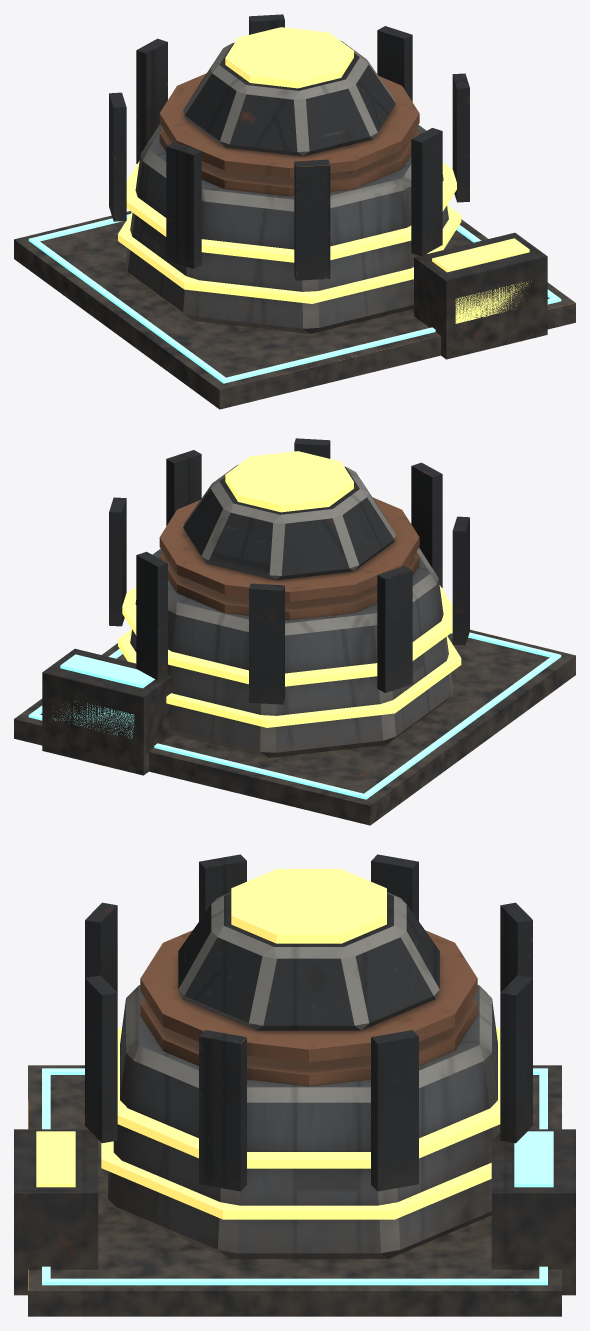
File: fornalha_ht.glb
3 renders of one model, top to bottom at view 1: azimuth 30°, elevation 25°; view 2: azimuth 150°, elevation 25°; view 3: azimuth 270°, elevation 25°, orthographic. The views are drawn at different scales.
Parts seen in each view (by area): view 1: fornalha_ht; view 2: fornalha_ht; view 3: fornalha_ht.
Part boxes in pixels (bbox=[...]): fornalha_ht: bbox=[14, 14, 575, 409]; fornalha_ht: bbox=[14, 438, 575, 825]; fornalha_ht: bbox=[14, 854, 575, 1316].
Bounding box in the file's own units: 1.9 × 1.18 × 2.
Materials: 3 (1 with a texture image).
